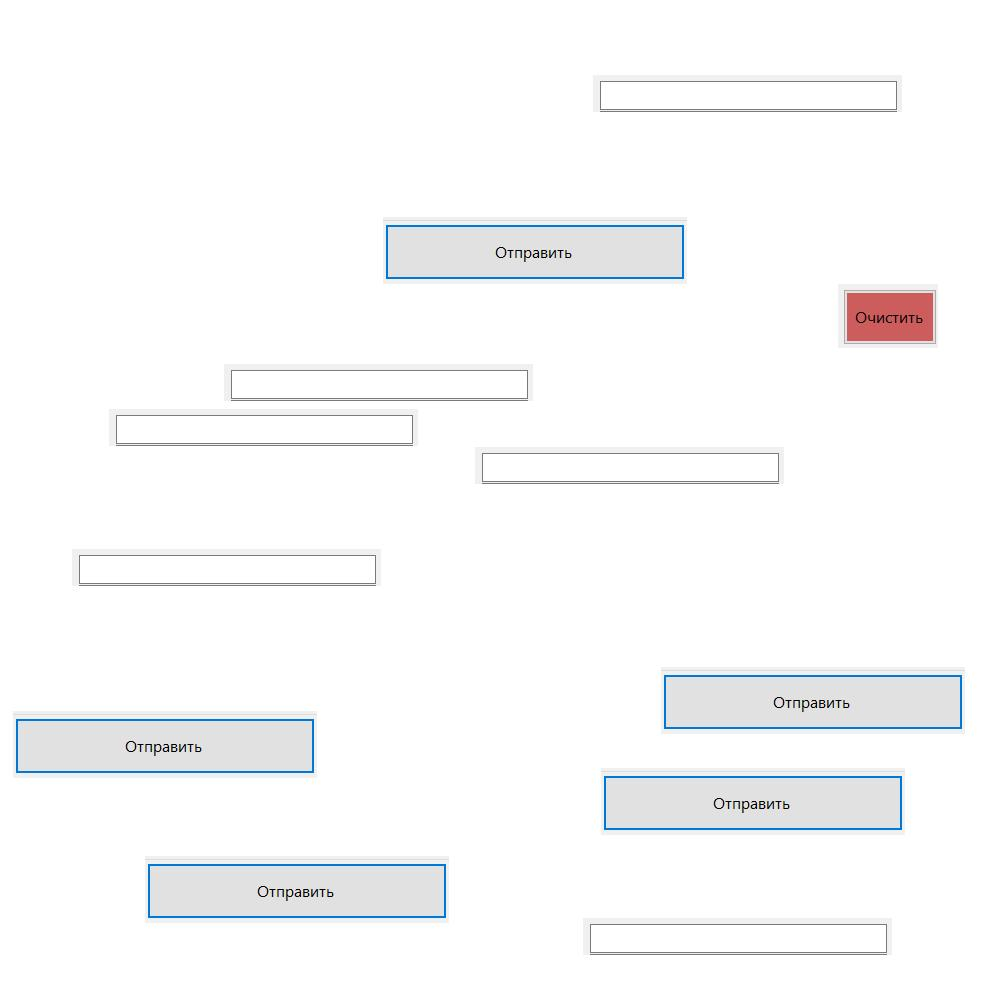Button: (383, 217, 687, 284), (601, 768, 905, 835), (13, 711, 317, 778), (661, 667, 965, 734), (145, 856, 449, 923), (838, 284, 938, 348)
EditText-: (224, 364, 533, 401), (72, 549, 381, 586), (583, 918, 892, 955), (475, 447, 784, 484), (593, 75, 902, 112), (109, 409, 418, 446)
